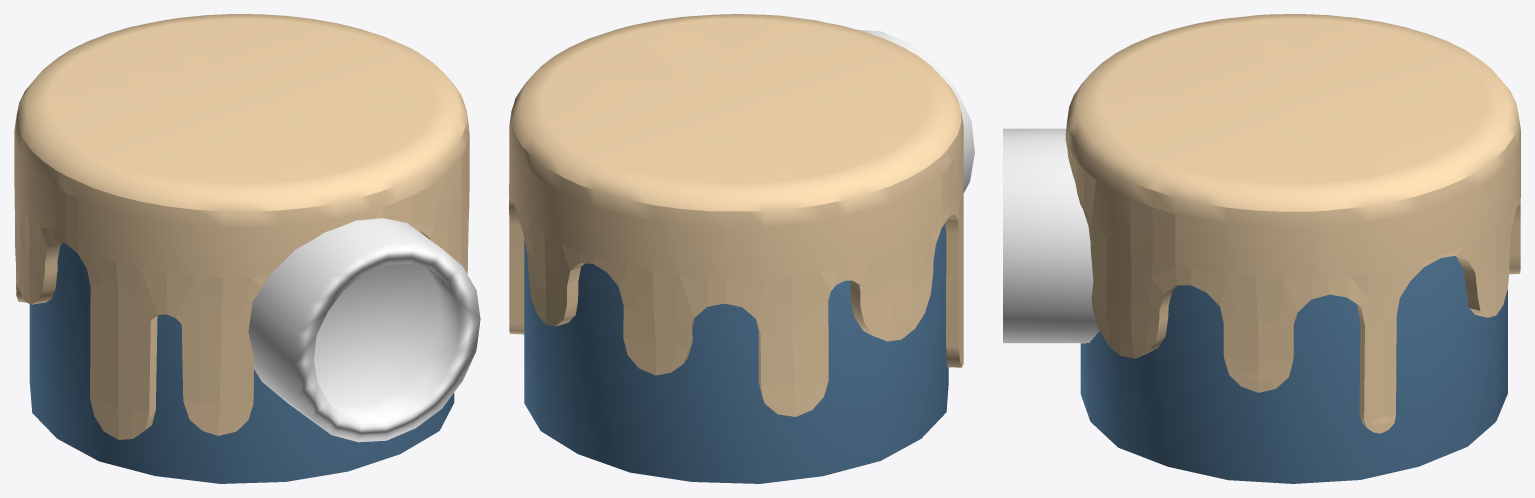
Rendered from Shooter_3.fbx.
3 renders of one model, left to right at view 1: azimuth 30°, elevation 25°; view 2: azimuth 150°, elevation 25°; view 3: azimuth 270°, elevation 25°, orthographic.
Parts seen in each view (by area): view 1: Shooter_3; view 2: Shooter_3; view 3: Shooter_3.
Boxes of the visible parts, <box> form: Shooter_3: <box>14,14,480,483</box>; Shooter_3: <box>509,14,974,483</box>; Shooter_3: <box>1003,14,1520,483</box>.
Size of the model in its own units: 400 by 285 by 455.
